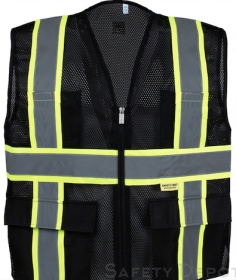safety vest: (7, 8, 228, 280)
